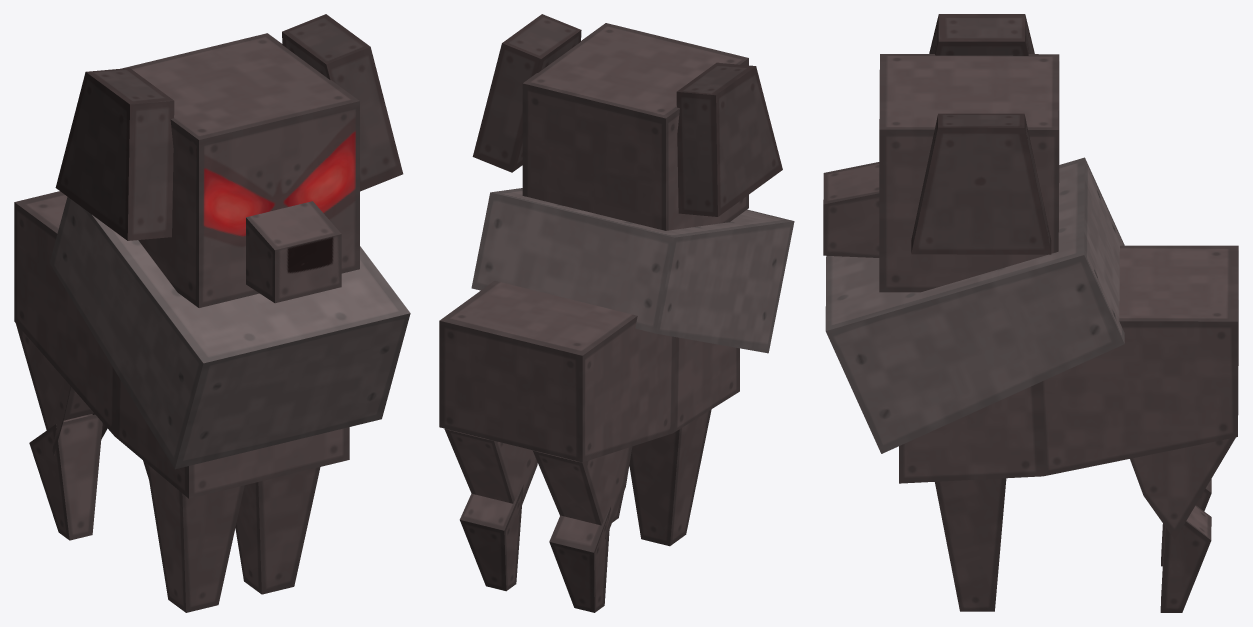
Rendered from enemy_5.fbx.
3 renders of one model, left to right at view 1: azimuth 30°, elevation 25°; view 2: azimuth 150°, elevation 25°; view 3: azimuth 270°, elevation 25°, orthographic. The views are drawn at different scales.
Visible parts, largest first — view 1: pCube14; view 2: pCube14; view 3: pCube14.
Boxes of the visible parts, <box> form: pCube14: <box>14,14,410,612</box>; pCube14: <box>439,14,794,612</box>; pCube14: <box>823,14,1238,612</box>.
Bounding box in the file's own units: 27.59 × 51.04 × 37.24.
1 material, 1 textured.
